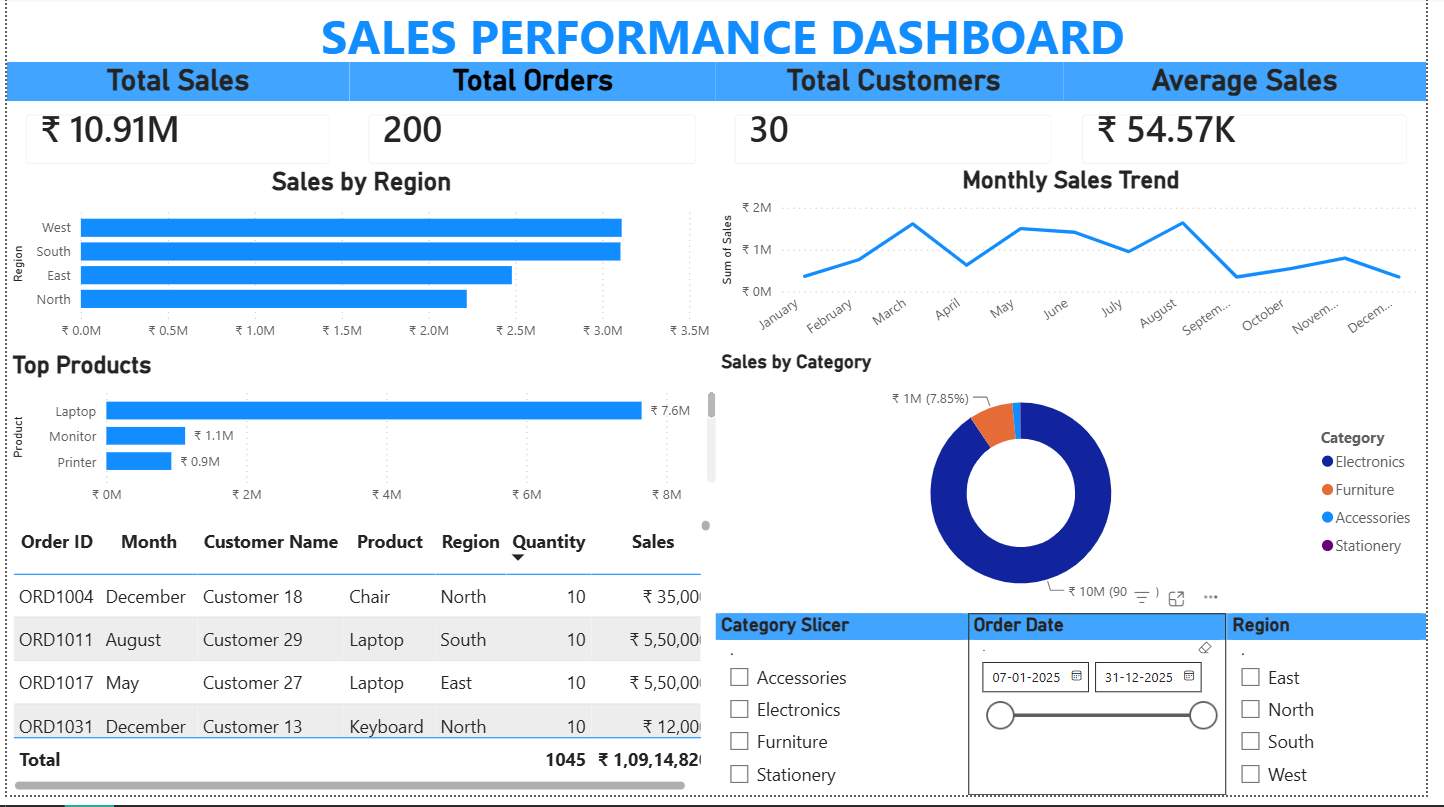

The page's visual inventory and layout, read from the dashboard file:
{"tool":"powerbi","page":{"name":"S","canvas":[1280,720],"ordinal":0},"visuals":[{"type":"textbox","box":[9.6,0,1270.7,68.6],"z":0},{"type":"cardVisual","title":"Total Sales","fields":{"Data":["Table1.Total sales"]},"box":[0,58.5,308.5,109.5],"z":1000},{"type":"cardVisual","title":"Total Orders","fields":{"Data":["Table1.Total Orders"]},"box":[308.5,58.5,330.9,109.5],"z":2000},{"type":"cardVisual","title":"Total Customers","fields":{"Data":["Table1.Total Customers"]},"box":[639.4,58.5,320.9,109.5],"z":3000},{"type":"cardVisual","title":"Average Sales","fields":{"Data":["Table1.Average Sales"]},"box":[952.9,58.5,327.2,109.5],"z":4000},{"type":"clusteredBarChart","title":"Sales by Region","fields":{"Category":["Table1.Region"],"Y":["Sum(Table1.Sales)"]},"box":[0,151.8,639.4,166.7],"z":5000},{"type":"lineChart","title":"Monthly Sales Trend","fields":{"Category":["Table1.Order Date.Variation.Date Hierarchy.Month"],"Y":["Sum(Table1.Sales)"]},"box":[639.4,151.8,640.6,166.7],"z":6000},{"type":"clusteredBarChart","title":"Top Products","fields":{"Category":["Table1.Product"],"Y":["Sum(Table1.Sales)"]},"box":[0,318.5,644.4,148],"z":7000},{"type":"donutChart","title":"Sales by Category","fields":{"Category":["Table1.Category"],"Y":["Sum(Table1.Sales)"]},"box":[639.4,318.5,640.6,237.6],"z":8000},{"type":"tableEx","fields":{"Values":["Table1.Order ID","Table1.Order Date.Variation.Date Hierarchy.Month","Table1.Customer Name","Table1.Product","Table1.Region","Sum(Table1.Quantity)","Sum(Table1.Sales)"]},"box":[0,466.5,639.4,253.8],"z":9000},{"type":"slicer","title":"Region","fields":{"Values":["Table1.Region"]},"box":[1099.7,556,180.4,164.2],"z":10000},{"type":"slicer","title":"Category Slicer","fields":{"Values":["Table1.Category"]},"box":[639.4,556,227.6,164.2],"z":11000},{"type":"slicer","title":"Order Date","fields":{"Values":["Table1.Order Date"]},"box":[867,556,232.6,164.2],"z":12000}]}

Visuals, with their boxes in screenshot pixels (x1, y1, x2, y2), scaled from the page's 1280x720 canvas onto the 1444x807 screenshot:
textbox: x1=11 y1=0 x2=1443 y2=77
"Total Sales" cardVisual: x1=0 y1=66 x2=348 y2=188
"Total Orders" cardVisual: x1=348 y1=66 x2=721 y2=188
"Total Customers" cardVisual: x1=721 y1=66 x2=1083 y2=188
"Average Sales" cardVisual: x1=1075 y1=66 x2=1443 y2=188
"Sales by Region" clusteredBarChart: x1=0 y1=170 x2=721 y2=357
"Monthly Sales Trend" lineChart: x1=721 y1=170 x2=1443 y2=357
"Top Products" clusteredBarChart: x1=0 y1=357 x2=727 y2=523
"Sales by Category" donutChart: x1=721 y1=357 x2=1443 y2=623
tableEx - Table1.Order ID x Table1.Order Date.Variation.Date Hierarchy.Month: x1=0 y1=523 x2=721 y2=806
"Region" slicer: x1=1241 y1=623 x2=1443 y2=806
"Category Slicer" slicer: x1=721 y1=623 x2=978 y2=806
"Order Date" slicer: x1=978 y1=623 x2=1240 y2=806
